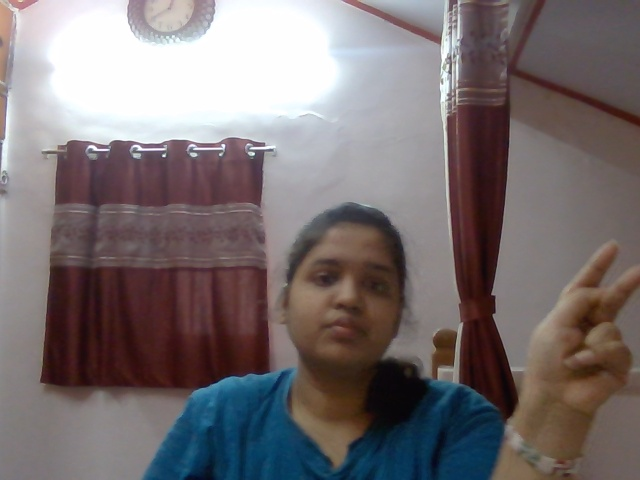p: (523, 221, 640, 428)
